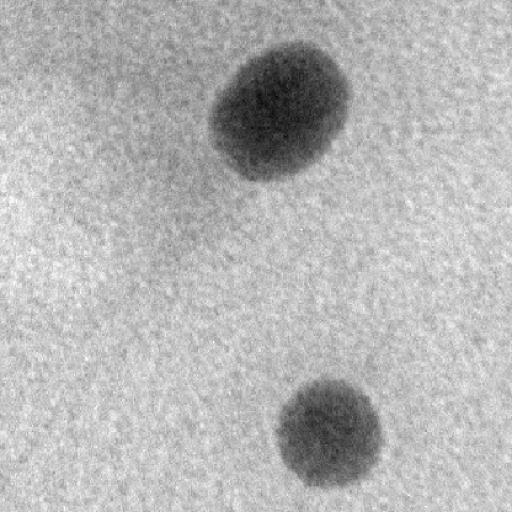Nanoparticles: (208, 70, 334, 180), (274, 374, 386, 493), (237, 36, 354, 140)
